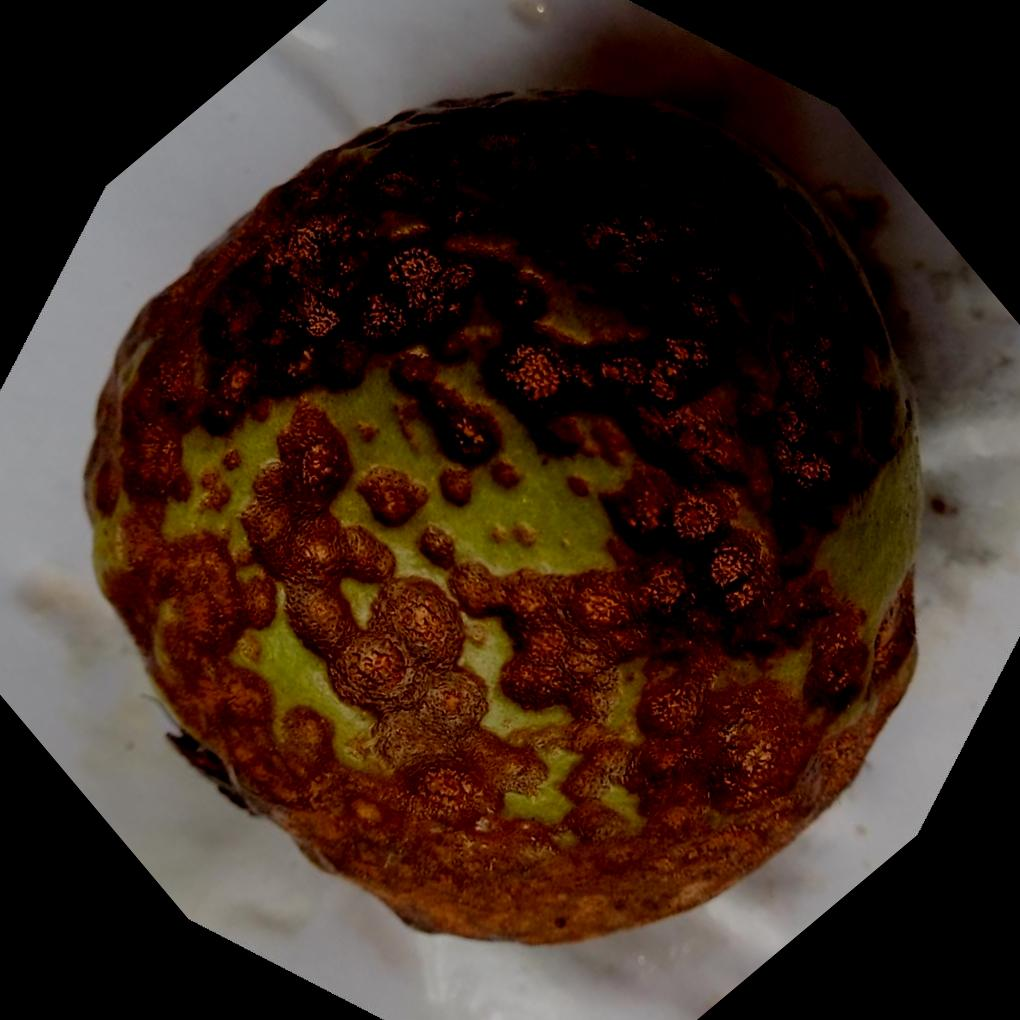FreshOrange: (78, 85, 923, 945)
